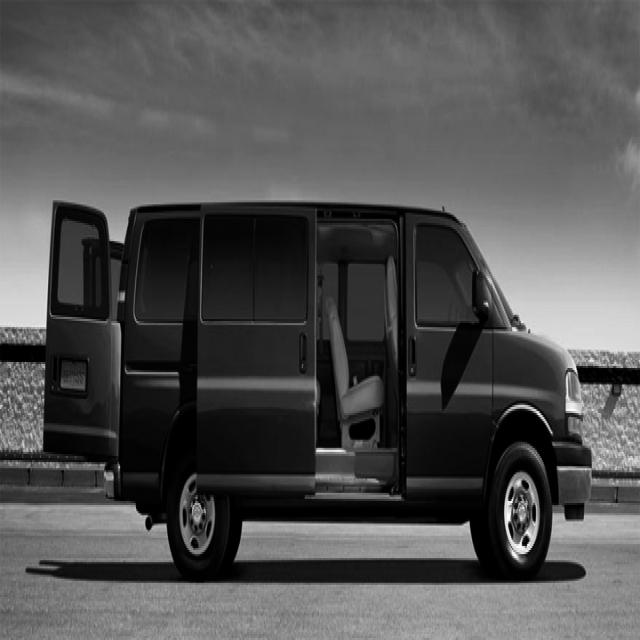car: (43, 198, 592, 581)
